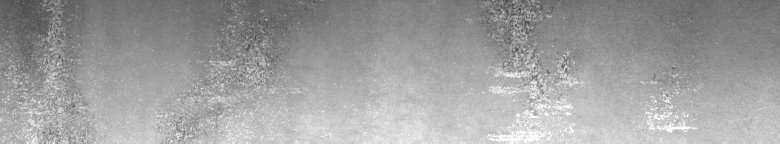hc: (485, 4, 577, 92)
